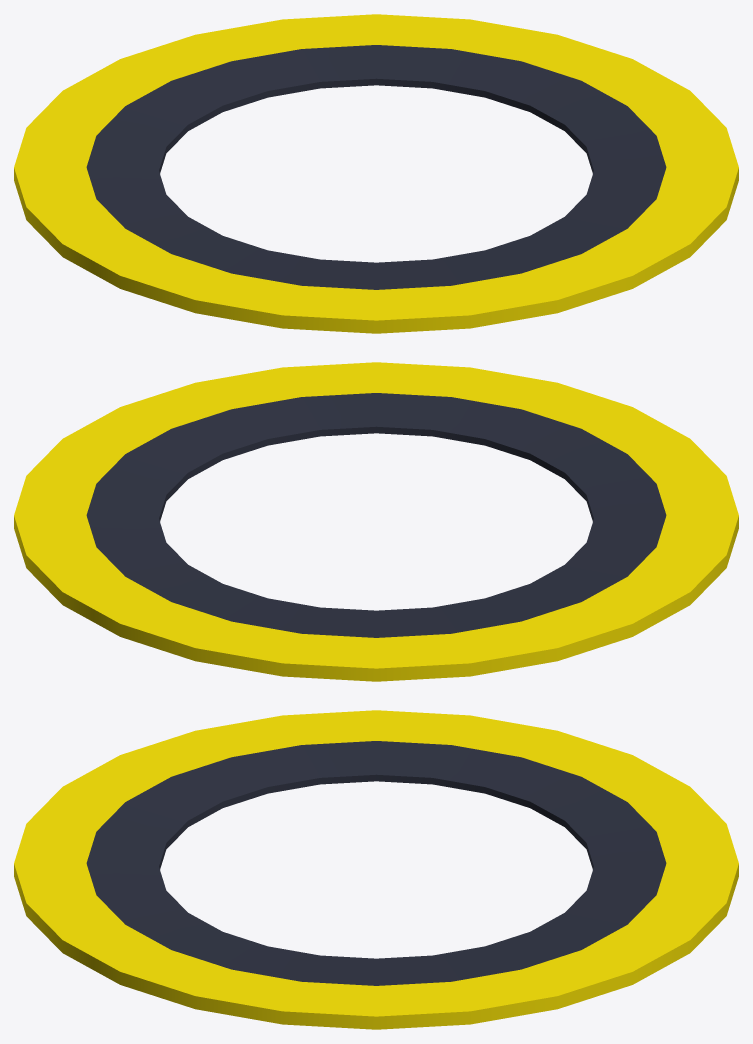
Rendered from hover_indicator.fbx.
3 views of the same model, one above another, from view 1: azimuth 30°, elevation 25°; view 2: azimuth 150°, elevation 25°; view 3: azimuth 270°, elevation 25° (orthographic).
Parts seen in each view (by area): view 1: mergedBlocks; view 2: mergedBlocks; view 3: mergedBlocks.
Part boxes in pixels (left/top/right/bottom): mergedBlocks: left=14, top=14, right=738, bottom=333; mergedBlocks: left=14, top=362, right=738, bottom=681; mergedBlocks: left=14, top=710, right=738, bottom=1029.
Bounding box in the file's own units: 30 × 0.6 × 30.
